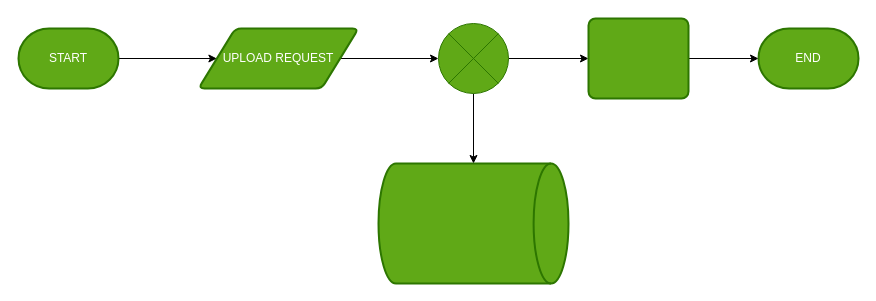
Image size: 876x301. Some labels were removed from this diagram. Here are the shapes that lost their labels. From the top down, the centre of each, then its label:
pixel 638 58: ORDER
pixel 473 223: CREAT - ProductOrders - Orders - Product
